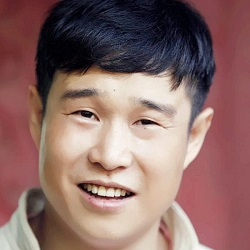unmask: (48, 65, 180, 240)
